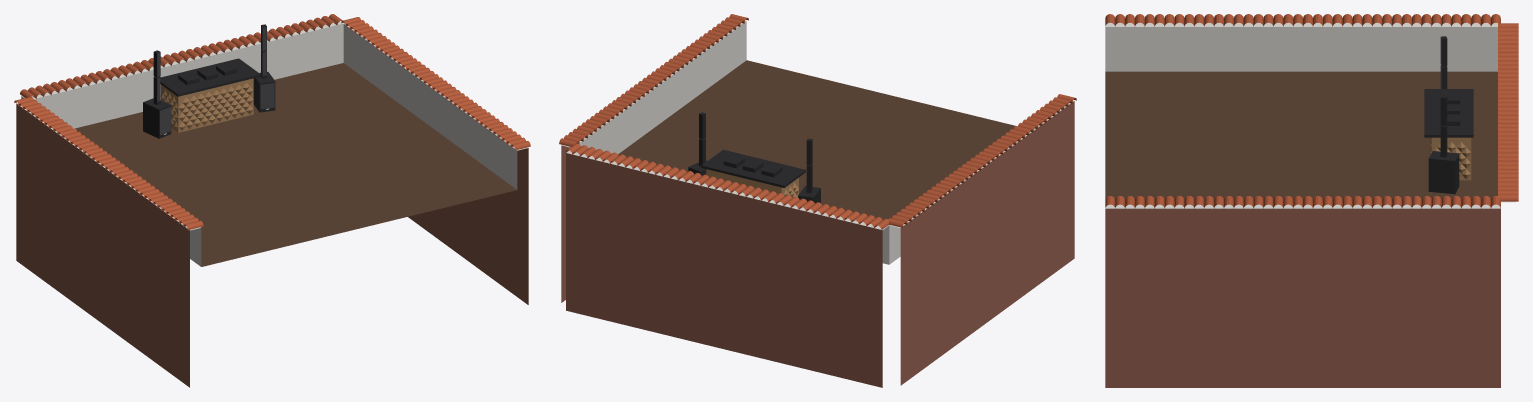
The model's file is roof.glb.
3 views of the same model, side by side, from view 1: azimuth 30°, elevation 25°; view 2: azimuth 150°, elevation 25°; view 3: azimuth 270°, elevation 25° (orthographic). The views are drawn at different scales.
Parts seen in each view (by area): view 1: deck, brick, plaster, tiles, booth_body, speaker, booth_top, grille, gear; view 2: brick, deck, tiles, plaster, booth_top, speaker, booth_body, gear; view 3: brick, deck, plaster, tiles, speaker, booth_top, booth_body, gear.
Part boxes in pixels (x1=…): deck: x1=75, y1=63, x2=516, y2=266; brick: x1=16, y1=96, x2=528, y2=387; plaster: x1=17, y1=21, x2=527, y2=266; tiles: x1=14, y1=14, x2=530, y2=230; booth_body: x1=161, y1=78, x2=253, y2=132; speaker: x1=143, y1=24, x2=275, y2=138; booth_top: x1=160, y1=58, x2=260, y2=96; grille: x1=157, y1=27, x2=274, y2=135; gear: x1=178, y1=62, x2=237, y2=84; brick: x1=561, y1=101, x2=1074, y2=387; deck: x1=618, y1=60, x2=1015, y2=225; tiles: x1=559, y1=14, x2=1076, y2=229; plaster: x1=561, y1=20, x2=1074, y2=264; booth_top: x1=701, y1=149, x2=805, y2=187; speaker: x1=688, y1=112, x2=820, y2=203; booth_body: x1=706, y1=169, x2=798, y2=197; gear: x1=723, y1=155, x2=782, y2=177; brick: x1=1105, y1=208, x2=1500, y2=387; deck: x1=1105, y1=71, x2=1497, y2=199; plaster: x1=1105, y1=22, x2=1515, y2=208; tiles: x1=1105, y1=14, x2=1518, y2=208; speaker: x1=1428, y1=36, x2=1459, y2=194; booth_top: x1=1424, y1=89, x2=1473, y2=137; booth_body: x1=1429, y1=137, x2=1471, y2=180; gear: x1=1440, y1=93, x2=1460, y2=125.
Bounding box in the file's own units: 9.12 × 5.06 × 8.36.
